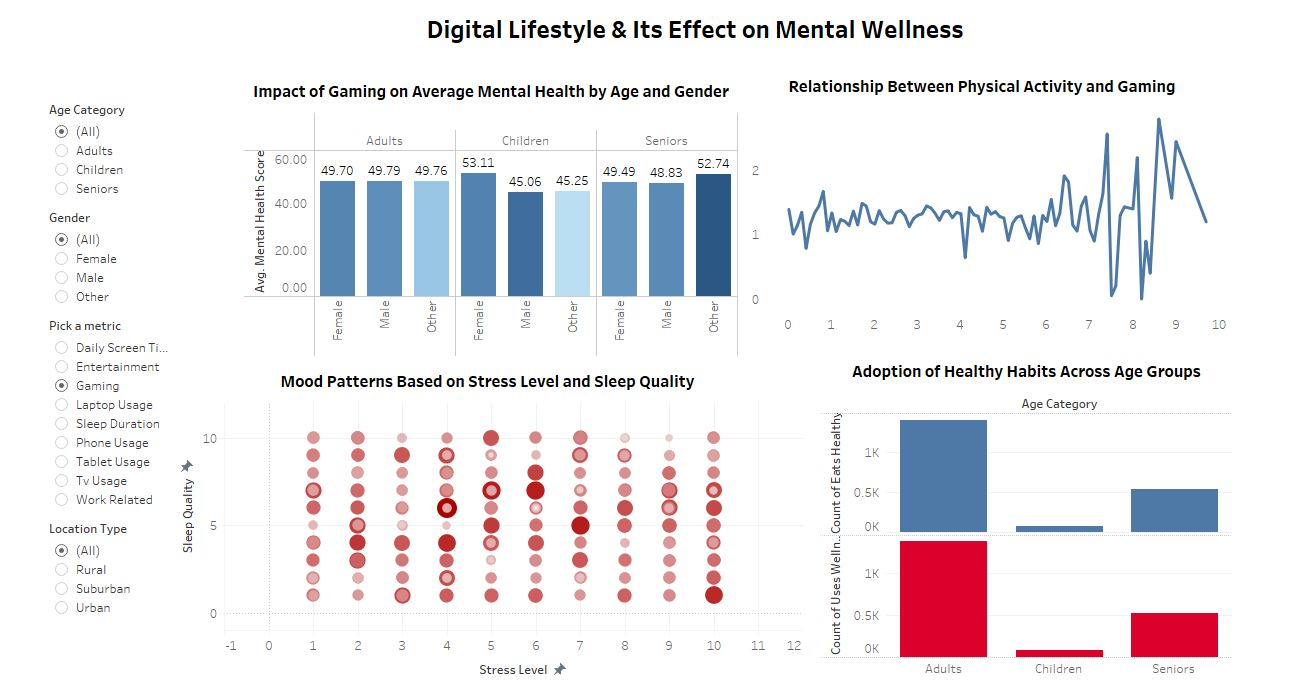

What the dashboard file says about the page in this screenshot:
{"tool":"tableau","page":{"name":"Dashboard 1","canvas":[1200,700],"ordinal":0},"visuals":[{"type":"text","box":[385,12,568,54]},{"type":"worksheet","title":"Physical Activity and Metric","mark":"Automatic","rows":["Calculation_418834775887749121"],"cols":["physical_activity_hours_per_week"],"box":[697,82,492,268]},{"type":"worksheet","title":"Avg Mental Health by Age & Gender","mark":"Automatic","rows":["mental_health_score"],"cols":["age_category","gender"],"box":[205,87,494,281]},{"type":"filter","title":"Avg Mental Health by Age & Gender","param":"[federated.0vgthbm1fjvudn1a25i771wksdvq].[none:age_category:nk]","box":[6,108,137,108]},{"type":"filter","title":"Avg Mental Health by Age & Gender","param":"[federated.0vgthbm1fjvudn1a25i771wksdvq].[none:gender:nk]","box":[6,216,137,108]},{"type":"parameter","param":"[Parameters].[Parameter 1]","box":[6,324,137,203]},{"type":"worksheet","title":"Healthy Habits by Age","mark":"Automatic","rows":["eats_healthy","uses_wellness_apps"],"cols":["age_category"],"box":[781,367,413,323]},{"type":"worksheet","title":"Heatmap: Mood, Stress, Sleep","mark":"Circle","rows":["sleep_quality"],"cols":["stress_level"],"box":[133,377,631,319]},{"type":"filter","title":"Avg Mental Health by Age & Gender","param":"[federated.0vgthbm1fjvudn1a25i771wksdvq].[none:location_type:nk]","box":[6,527,137,108]}]}

Visuals, with their boxes on the page's 1200x700 design canvas (x1, y1, x2, y2). These are canvas units, not pixel positions in the 1302x685 screenshot, which may show the page scaled, cropped or inside an application window:
text: [left=385, top=12, right=953, bottom=66]
"Physical Activity and Metric" worksheet: [left=697, top=82, right=1189, bottom=350]
"Avg Mental Health by Age & Gender" worksheet: [left=205, top=87, right=699, bottom=368]
"Avg Mental Health by Age & Gender" filter: [left=6, top=108, right=143, bottom=216]
"Avg Mental Health by Age & Gender" filter: [left=6, top=216, right=143, bottom=324]
parameter: [left=6, top=324, right=143, bottom=527]
"Healthy Habits by Age" worksheet: [left=781, top=367, right=1194, bottom=690]
"Heatmap: Mood, Stress, Sleep" worksheet (Circle marks): [left=133, top=377, right=764, bottom=696]
"Avg Mental Health by Age & Gender" filter: [left=6, top=527, right=143, bottom=635]
